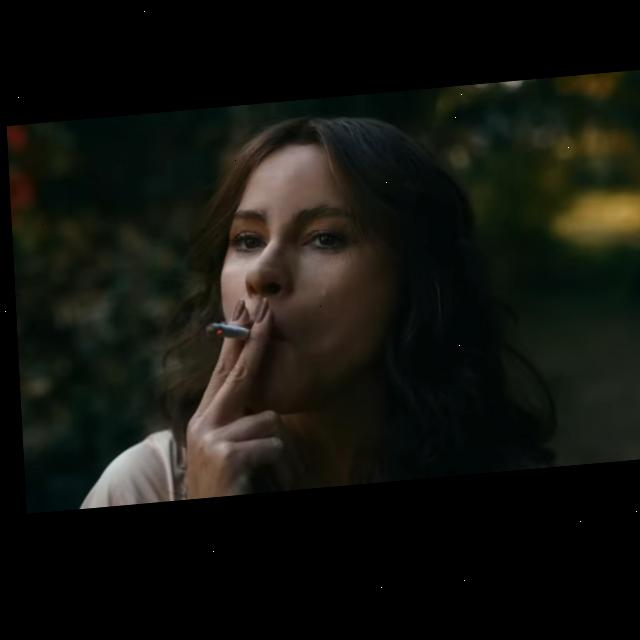cigarette: (201, 324, 247, 347)
